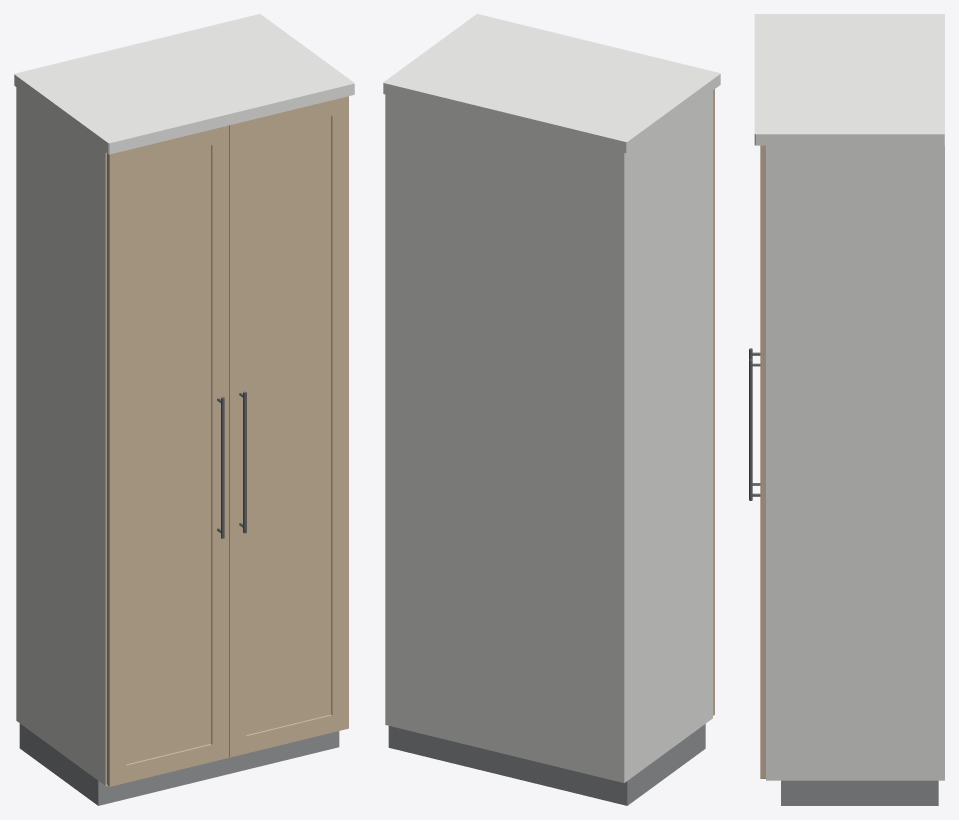
The picture shows the model from 3 angles, left to right: view 1: azimuth 30°, elevation 25°; view 2: azimuth 150°, elevation 25°; view 3: azimuth 270°, elevation 25°; orthographic projection.
Visible parts, largest first — view 1: Tủ áo cánh mở Chiều rộng=900; Chiều sâu=600; view 2: Tủ áo cánh mở Chiều rộng=900; Chiều sâu=600; view 3: Tủ áo cánh mở Chiều rộng=900; Chiều sâu=600.
Boxes of the visible parts, x1,y1,x2,y2 form: Tủ áo cánh mở Chiều rộng=900; Chiều sâu=600: (14, 14, 354, 805); Tủ áo cánh mở Chiều rộng=900; Chiều sâu=600: (383, 14, 720, 805); Tủ áo cánh mở Chiều rộng=900; Chiều sâu=600: (749, 14, 944, 805).
Bounding box in the file's own units: 0.92 × 2.4 × 0.633.
